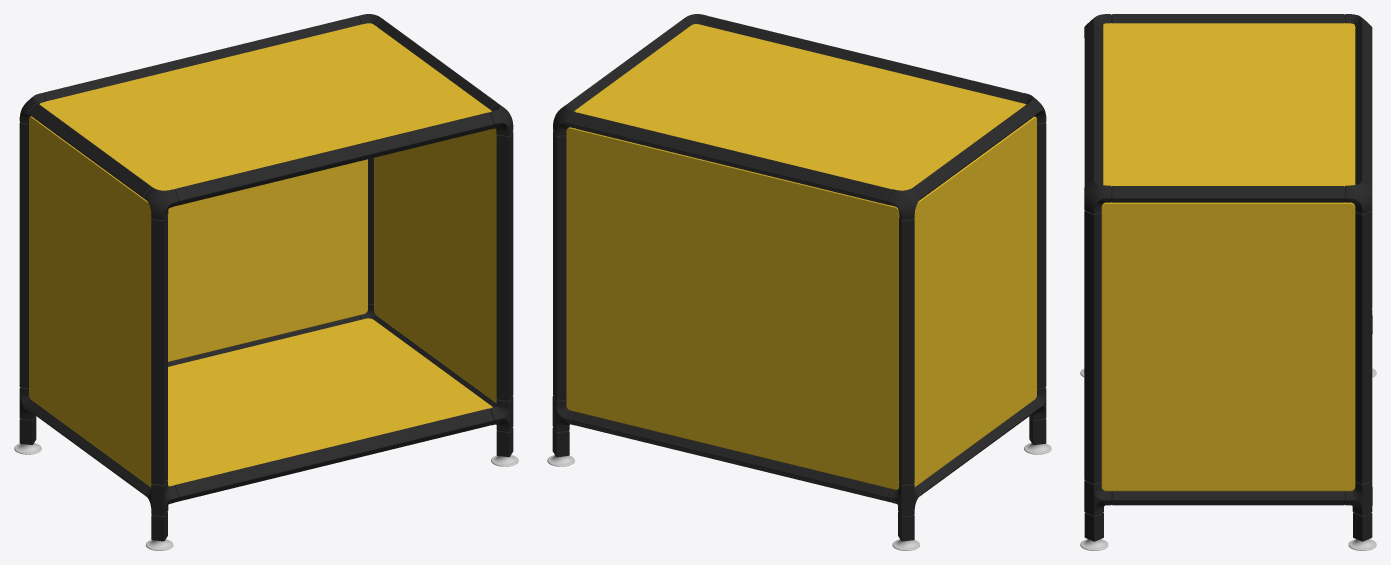
The picture shows the model from 3 angles, left to right: view 1: azimuth 30°, elevation 25°; view 2: azimuth 150°, elevation 25°; view 3: azimuth 270°, elevation 25°; orthographic projection.
Parts seen in each view (by area): view 1: 523x329x420; view 2: 523x329x420; view 3: 523x329x420.
Boxes of the visible parts, x1,y1,x2,y2 form: 523x329x420: [14, 14, 518, 550]; 523x329x420: [547, 14, 1051, 550]; 523x329x420: [1080, 14, 1376, 550].
Bounding box in the file's own units: 0.6129 × 0.5593 × 0.4182.
